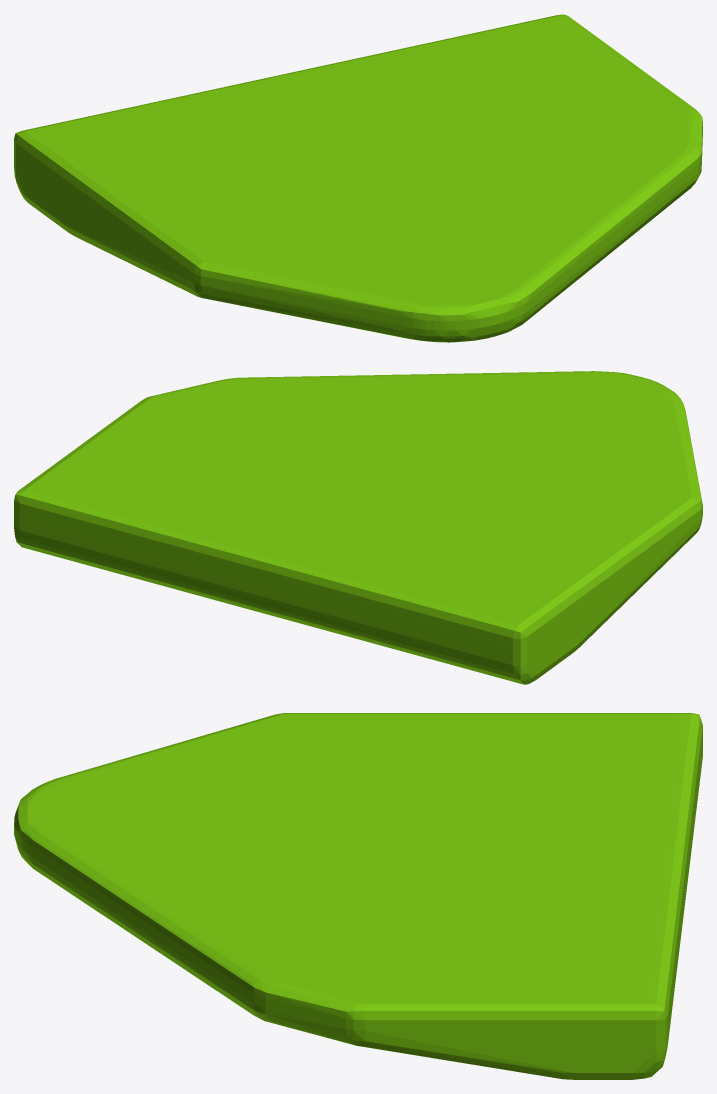
Rendered from left_ankle_link_part_4.obj.
3 renders of one model, top to bottom at view 1: azimuth 30°, elevation 25°; view 2: azimuth 150°, elevation 25°; view 3: azimuth 270°, elevation 25°, orthographic. The views are drawn at different scales.
Bounding box in the file's own units: 0.0764 × 0.00887 × 0.074.
